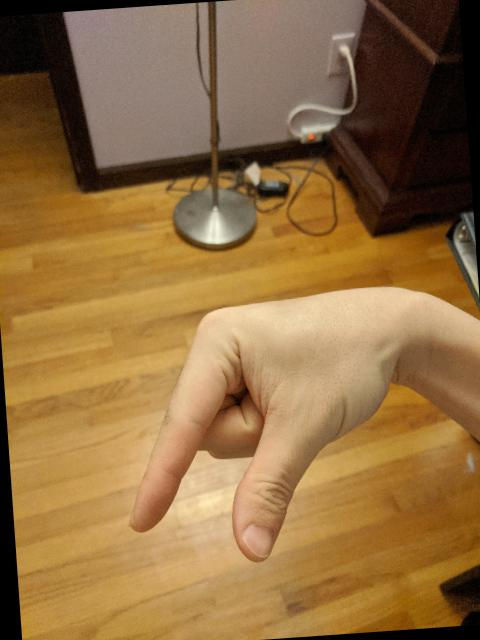Q: (108, 280, 419, 577)
